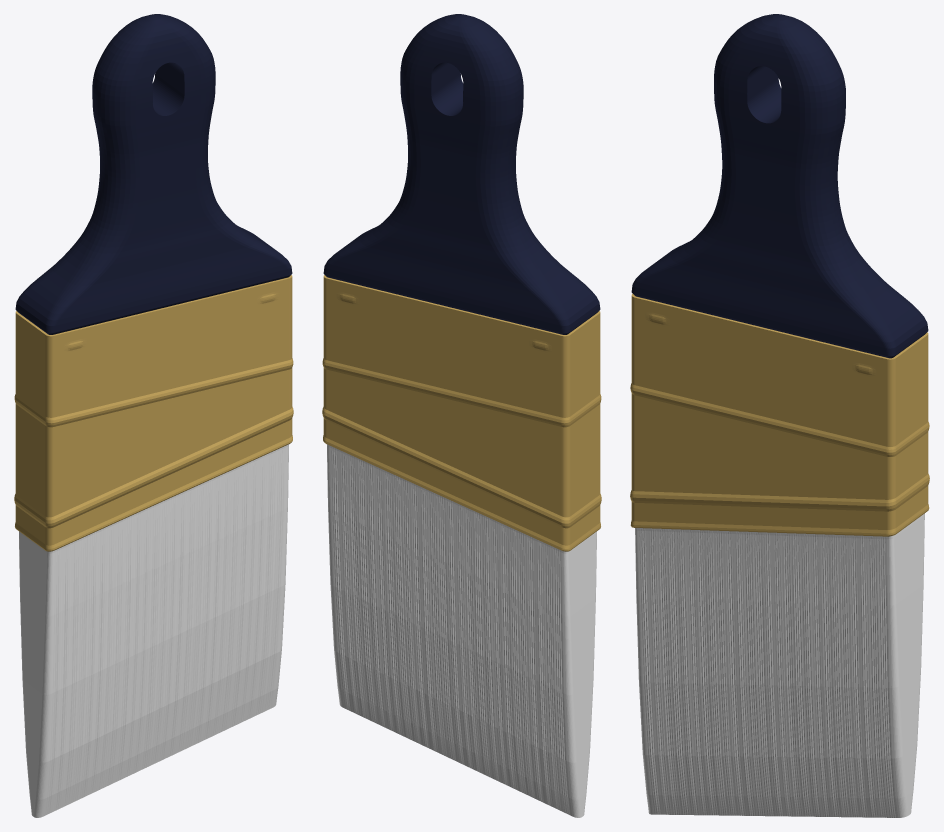
3 views of the same model, side by side, from view 1: azimuth 30°, elevation 25°; view 2: azimuth 150°, elevation 25°; view 3: azimuth 330°, elevation 25° (orthographic). The views are drawn at different scales.
Visible parts, largest first — view 1: synthetic_bundle, formed_ferrule, molded_handle; view 2: synthetic_bundle, formed_ferrule, molded_handle; view 3: synthetic_bundle, formed_ferrule, molded_handle.
Part boxes in pixels (<box>): synthetic_bundle: <box>19,444,288,817</box>; formed_ferrule: <box>14,275,293,551</box>; molded_handle: <box>15,14,292,334</box>; synthetic_bundle: <box>327,444,596,817</box>; formed_ferrule: <box>322,275,601,551</box>; molded_handle: <box>323,14,600,334</box>; synthetic_bundle: <box>635,513,924,817</box>; formed_ferrule: <box>630,293,929,536</box>; molded_handle: <box>631,14,928,358</box>.
Bounding box in the file's own units: 0.0523 × 0.1556 × 0.0137.
